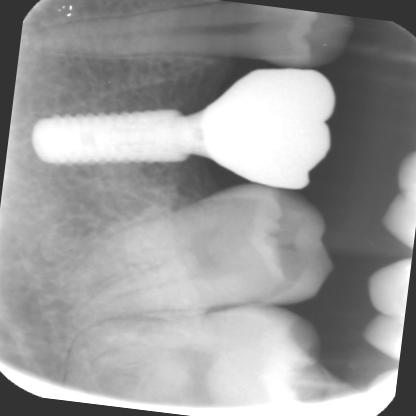ITI: (19, 82, 197, 186)
